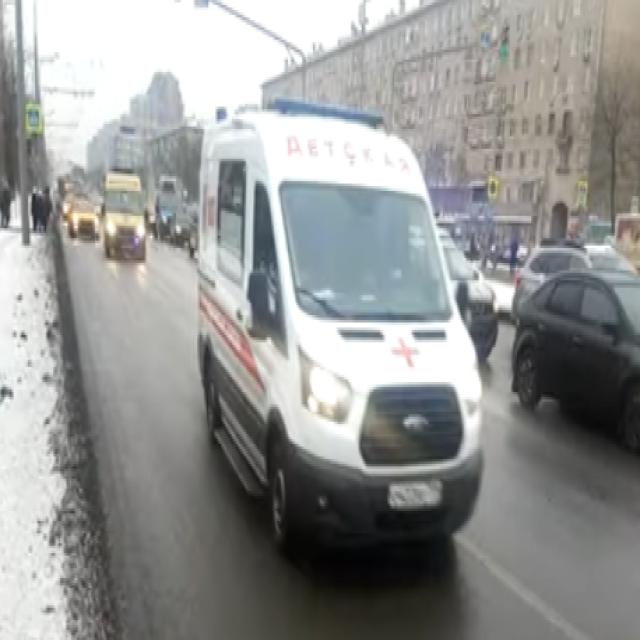ambulance: (200, 99, 488, 565)
intensive care unit: (103, 172, 148, 267)
non emergency car: (516, 269, 640, 450), (65, 188, 102, 243)
